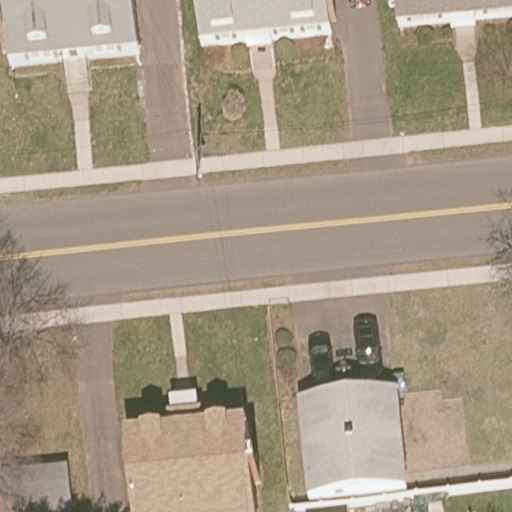DT: (190, 134, 208, 180)
